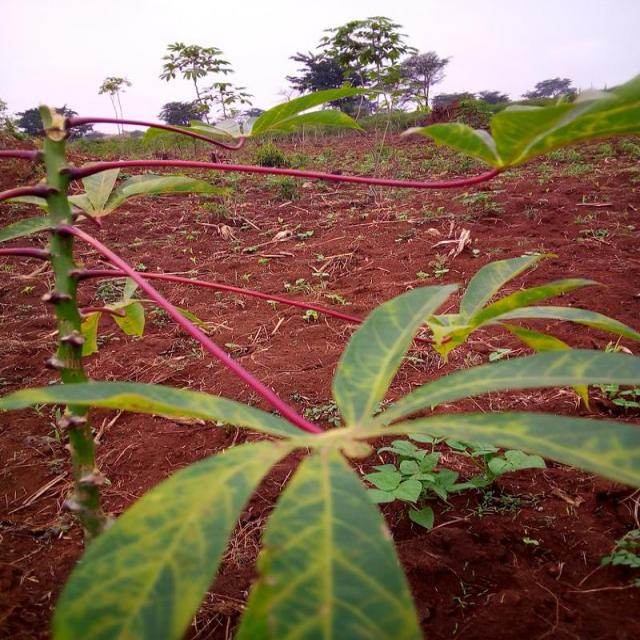cassava leaf: (51, 437, 295, 638), (235, 446, 425, 638), (332, 280, 462, 429)
